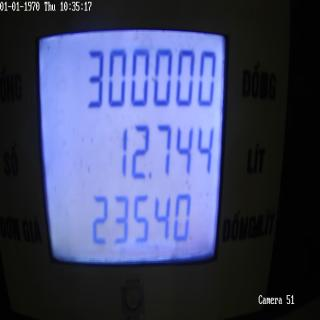screen: (32, 4, 232, 292)
